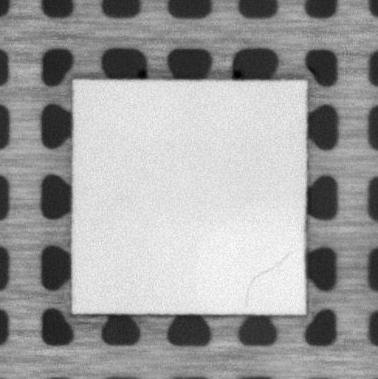DIE_CRACK: (244, 251, 293, 309)
